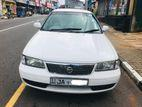car: (19, 7, 121, 96)
